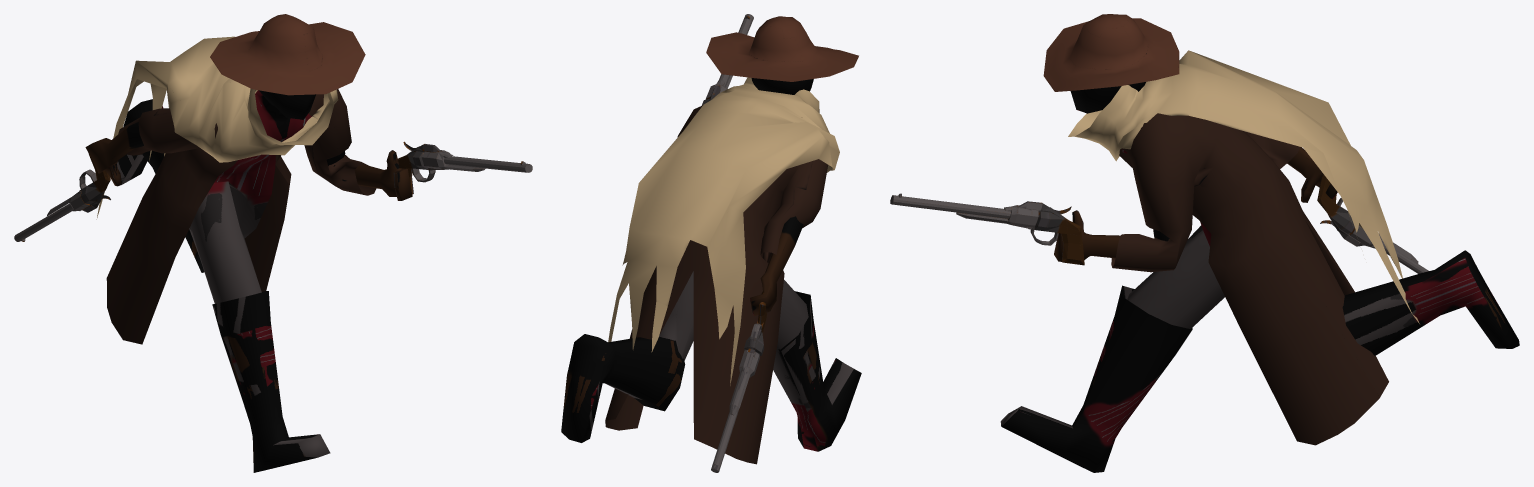
Rendered from run6.obj.
3 views of the same model, side by side, from view 1: azimuth 30°, elevation 25°; view 2: azimuth 150°, elevation 25°; view 3: azimuth 270°, elevation 25° (orthographic). The views are drawn at different scales.
Parts seen in each view (by area): view 1: Gunslinger_Clothing_Cube.004, Default_Body_Cube.003, Shemagh_Cube.009, Boots_Cube.008, Hat_Cube.005, Revolver_Model_Cube.006, Revolver_Model.001_Cube.007; view 2: Shemagh_Cube.009, Gunslinger_Clothing_Cube.004, Boots_Cube.008, Hat_Cube.005, Default_Body_Cube.003, Revolver_Model.001_Cube.007, Revolver_Model_Cube.006; view 3: Gunslinger_Clothing_Cube.004, Boots_Cube.008, Shemagh_Cube.009, Default_Body_Cube.003, Hat_Cube.005, Revolver_Model_Cube.006, Revolver_Model.001_Cube.007.
Boxes of the visible parts, x1,y1,x2,y2 form: Gunslinger_Clothing_Cube.004: (106,89,376,344); Default_Body_Cube.003: (85,90,412,303); Shemagh_Cube.009: (96,36,338,219); Boots_Cube.008: (117,99,330,472); Hat_Cube.005: (210,14,365,95); Revolver_Model_Cube.006: (398,141,532,194); Revolver_Model.001_Cube.007: (14,154,110,241); Shemagh_Cube.009: (608,77,839,385); Gunslinger_Clothing_Cube.004: (605,105,827,464); Boots_Cube.008: (561,291,861,451); Hat_Cube.005: (706,16,858,81); Default_Body_Cube.003: (659,58,813,360); Revolver_Model.001_Cube.007: (711,290,767,472); Revolver_Model_Cube.006: (702,14,753,105); Gunslinger_Clothing_Cube.004: (1111,113,1388,445); Boots_Cube.008: (1000,250,1519,472); Shemagh_Cube.009: (1068,50,1419,323); Default_Body_Cube.003: (1054,53,1337,328); Hat_Cube.005: (1043,14,1179,91); Revolver_Model_Cube.006: (890,193,1084,265); Revolver_Model.001_Cube.007: (1317,174,1428,273).
Bounding box in the file's own units: 2.71 × 4.66 × 5.71.
